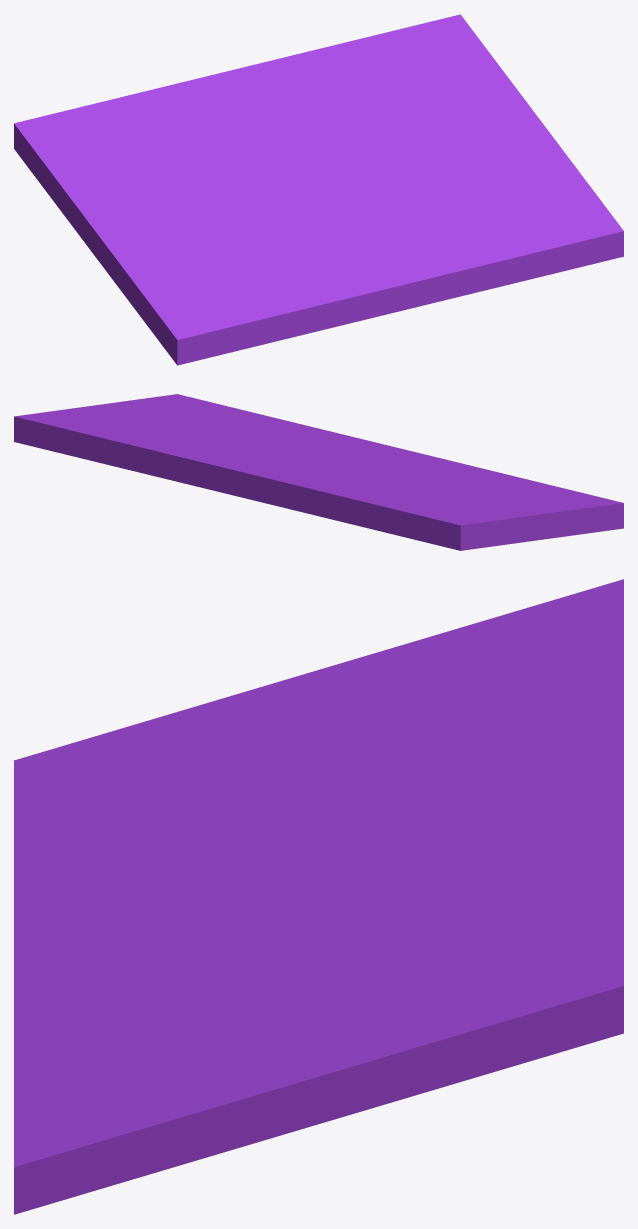
The model's file is Window_144_chunks.fbx.
3 views of the same model, one above another, from view 1: azimuth 30°, elevation 25°; view 2: azimuth 150°, elevation 25°; view 3: azimuth 270°, elevation 25° (orthographic). The views are drawn at different scales.
Parts seen in each view (by area): view 1: Window_144_2, Window_144_0, Window_144_4, Window_144_3, Window_144_1, Window_144_5; view 2: Window_144_0, Window_144_2, Window_144_4, Window_144_3, Window_144_1, Window_144_5; view 3: Window_144_2, Window_144_0, Window_144_4, Window_144_1, Window_144_3, Window_144_5.
Part boxes in pixels (left/top/right/bottom): Window_144_2: left=280, top=14, right=623, bottom=272; Window_144_0: left=14, top=58, right=315, bottom=302; Window_144_4: left=303, top=199, right=556, bottom=329; Window_144_3: left=130, top=257, right=325, bottom=365; Window_144_1: left=133, top=170, right=368, bottom=303; Window_144_5: left=249, top=235, right=309, bottom=277; Window_144_0: left=193, top=460, right=582, bottom=550; Window_144_2: left=14, top=394, right=312, bottom=485; Window_144_4: left=266, top=415, right=475, bottom=469; Window_144_3: left=458, top=467, right=623, bottom=534; Window_144_1: left=311, top=450, right=595, bottom=514; Window_144_5: left=400, top=465, right=468, bottom=480; Window_144_2: left=14, top=821, right=623, bottom=1214; Window_144_0: left=178, top=579, right=623, bottom=869; Window_144_4: left=14, top=871, right=237, bottom=1086; Window_144_1: left=118, top=712, right=337, bottom=922; Window_144_3: left=14, top=729, right=170, bottom=895; Window_144_5: left=89, top=818, right=185, bottom=872.
Size of the model in its own units: 1838 by 482 by 1165.
